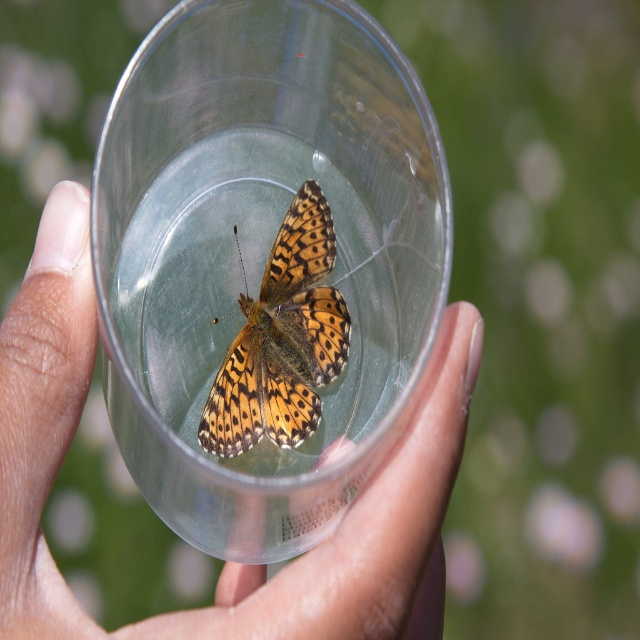Butterfly: (188, 180, 351, 463)
